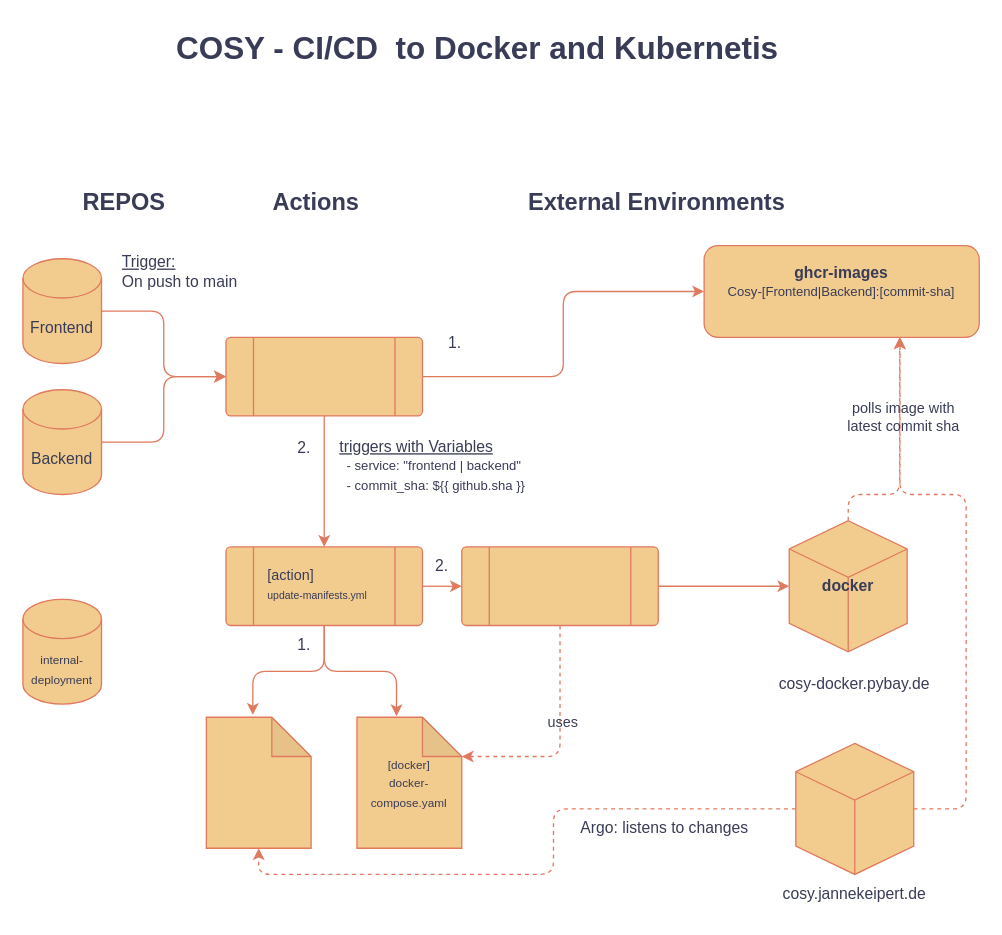
This 1002x935 diagram has some shape labels left out. The shapes that lost their labels are listed below. From the top down, each one's centre as x and y in pixels, then its label:
At pixel 323 376: "[action] build-and-push.yml".
At pixel 559 586: "[action] deploy-docker-vps.yml".
At pixel 258 782: "[kubernetes] deployment.yaml".
At pixel 854 808: "kubernetes".
